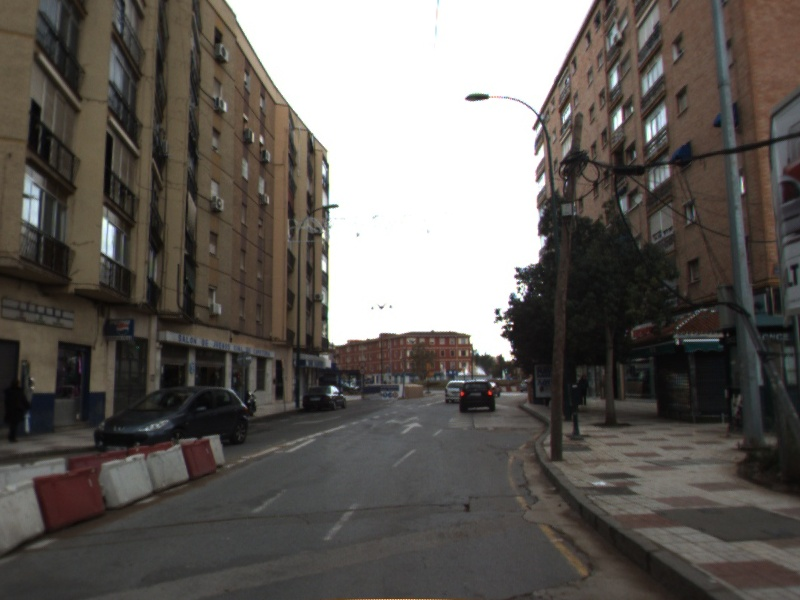STRAIGHT: (397, 420, 426, 436)
STRAIGHT_LEFT: (382, 414, 423, 427)
